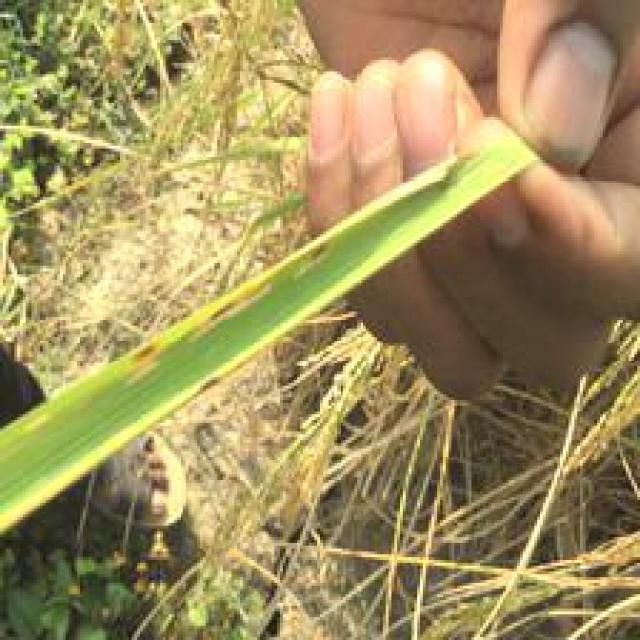Rice_Brownspot: (194, 280, 272, 314), (294, 226, 334, 260), (126, 332, 157, 357)
